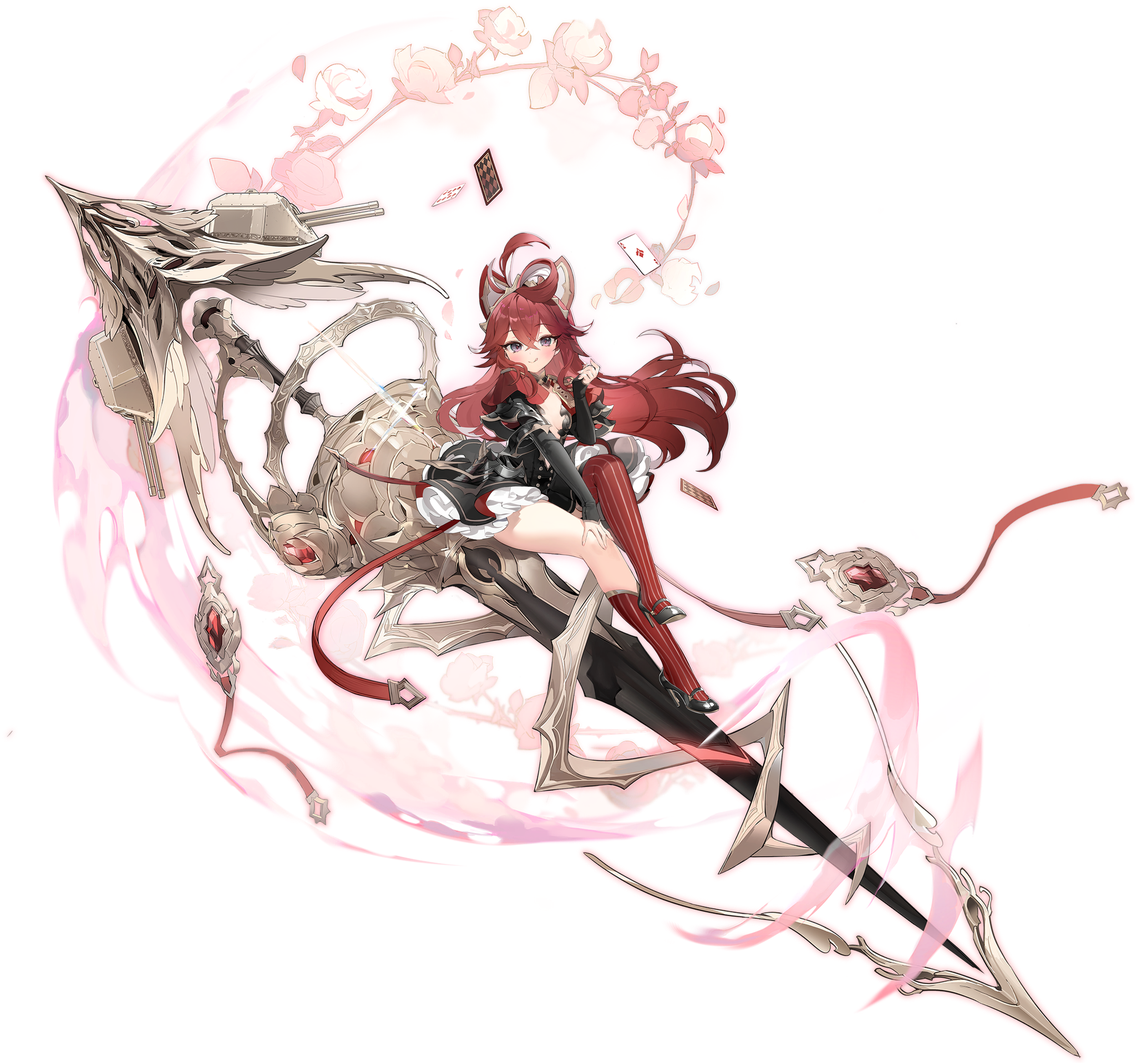person: (336, 219, 739, 804)
